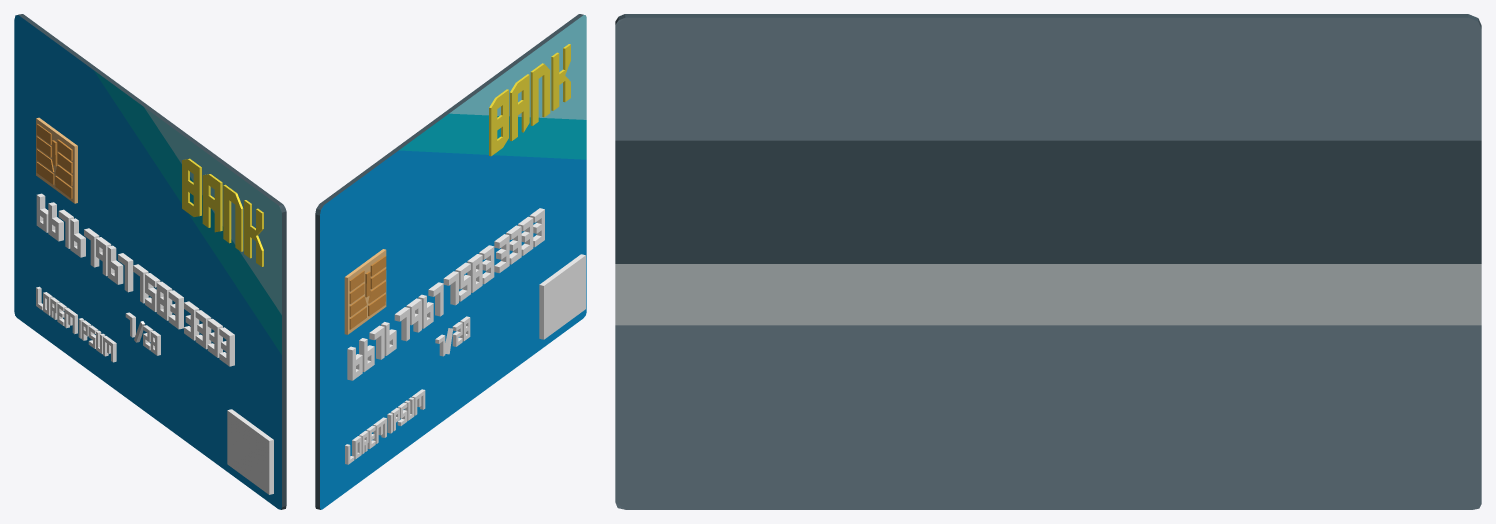
Rendered from card.obj.
The picture shows the model from 3 angles, left to right: view 1: azimuth 30°, elevation 25°; view 2: azimuth 150°, elevation 25°; view 3: azimuth 270°, elevation 25°; orthographic projection. The views are drawn at different scales.
Visible parts, largest first — view 1: 005_Buffer_Layer, 000_Buffer_Layer, 006_Buffer_Layer, 007_Buffer_Layer, 009_Buffer_Layer, 003_Buffer_Layer, 002_Buffer_Layer, 001_Buffer_Layer; view 2: 005_Buffer_Layer, 000_Buffer_Layer, 006_Buffer_Layer, 007_Buffer_Layer, 009_Buffer_Layer, 003_Buffer_Layer, 002_Buffer_Layer, 001_Buffer_Layer; view 3: 004_Buffer_Layer, 003_Buffer_Layer, 008_Buffer_Layer.
Boxes of the visible parts, bbox=[...] form: 005_Buffer_Layer: bbox=[14, 15, 281, 509]; 000_Buffer_Layer: bbox=[36, 193, 273, 494]; 006_Buffer_Layer: bbox=[94, 70, 281, 354]; 007_Buffer_Layer: bbox=[144, 107, 281, 314]; 009_Buffer_Layer: bbox=[182, 158, 263, 266]; 003_Buffer_Layer: bbox=[17, 14, 286, 509]; 002_Buffer_Layer: bbox=[36, 124, 72, 198]; 001_Buffer_Layer: bbox=[36, 117, 77, 203]; 005_Buffer_Layer: bbox=[320, 150, 586, 509]; 000_Buffer_Layer: bbox=[345, 208, 585, 464]; 006_Buffer_Layer: bbox=[399, 113, 586, 159]; 007_Buffer_Layer: bbox=[449, 15, 586, 119]; 009_Buffer_Layer: bbox=[489, 44, 570, 156]; 003_Buffer_Layer: bbox=[315, 14, 583, 509]; 002_Buffer_Layer: bbox=[349, 255, 386, 329]; 001_Buffer_Layer: bbox=[344, 249, 386, 334]; 004_Buffer_Layer: bbox=[615, 17, 1481, 509]; 003_Buffer_Layer: bbox=[615, 14, 1481, 263]; 008_Buffer_Layer: bbox=[615, 264, 1481, 325].
Bounding box in the file's own units: 0.091 × 2.48 × 3.95.
